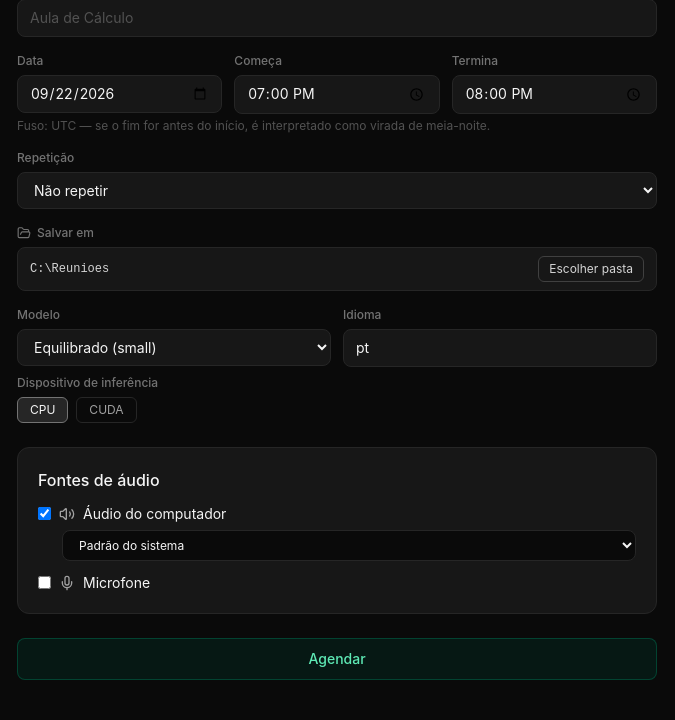
Test: ScheduleForm › recusa salvar sem titulo
(page scrolled)
Expected: the text "C:\\Reunioes" is shown, [30,262,109,276]
Click the button "Agendar" at {"x": 337, "y": 659}, box [17,638,657,680]
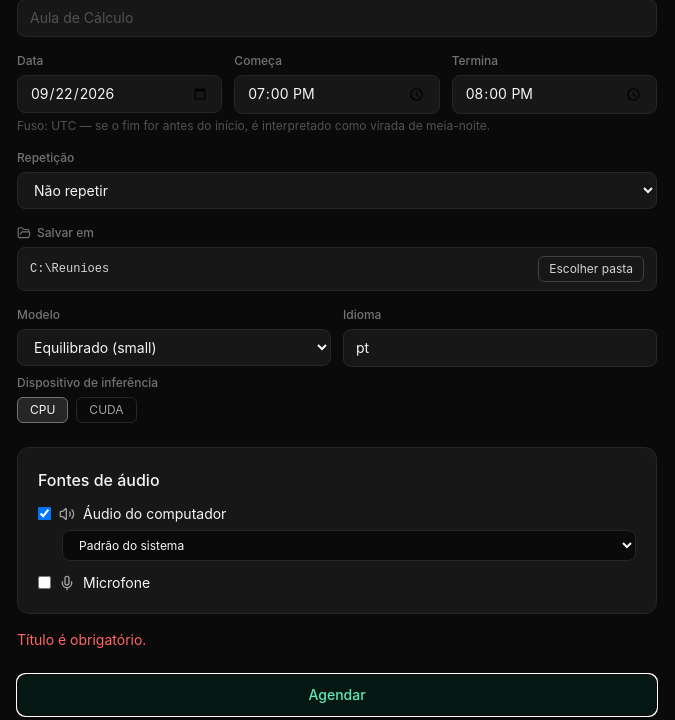
Expected: the text "Título é obrigatório." is shown, [17,631,146,648]
